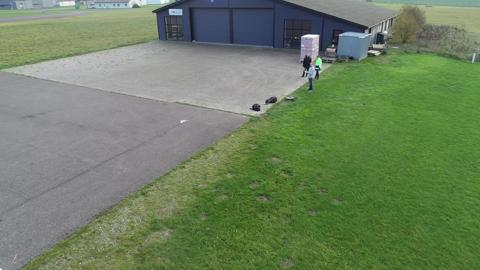RockwoolPallet: (299, 33, 321, 63)
